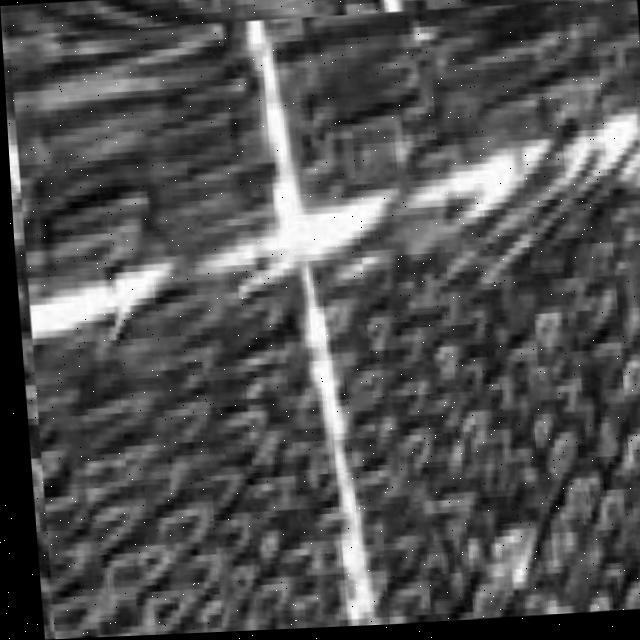Structural Damage: (7, 3, 640, 639)
